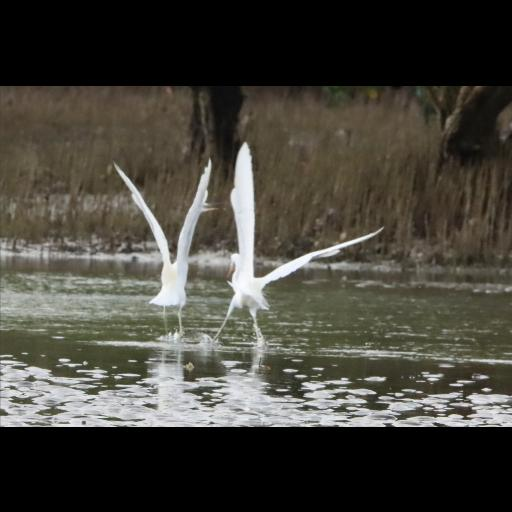chinese_egret: (220, 141, 384, 347), (112, 157, 218, 337)
